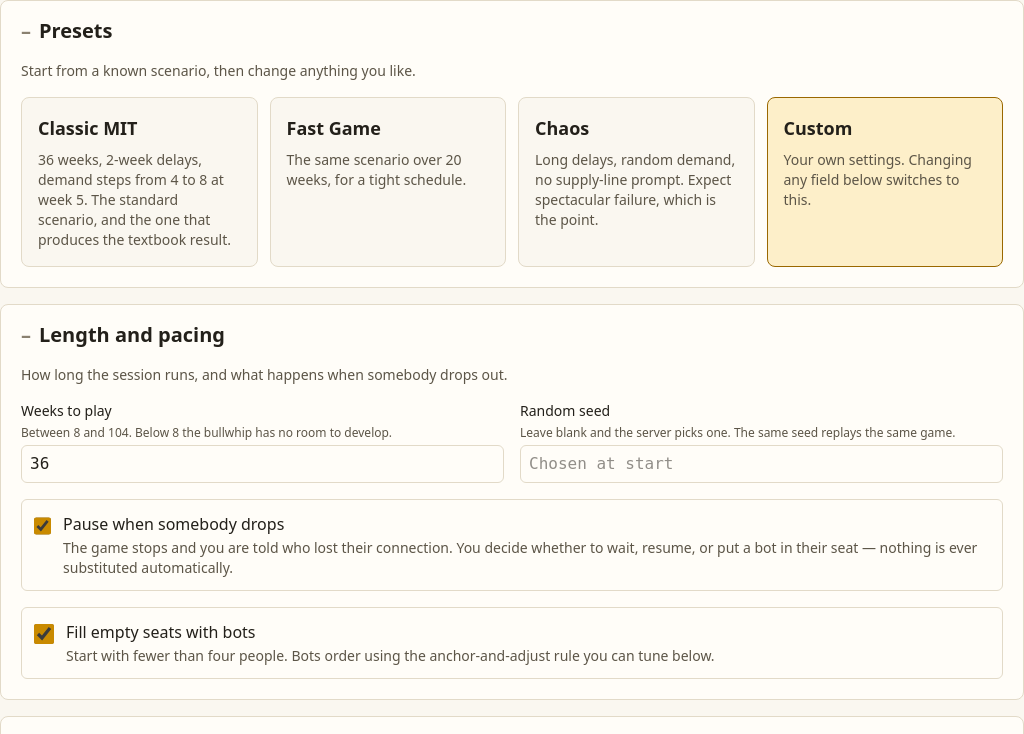
Test: server rejection (§3.2) › renders a real FastAPI 422 as a string and highlights the field [AC 13, FM 8]
Step 1. Replace the text in the number field labelled "Weeks to play" with "2" → (262, 464), box x1=21 y1=445 x2=504 y2=483
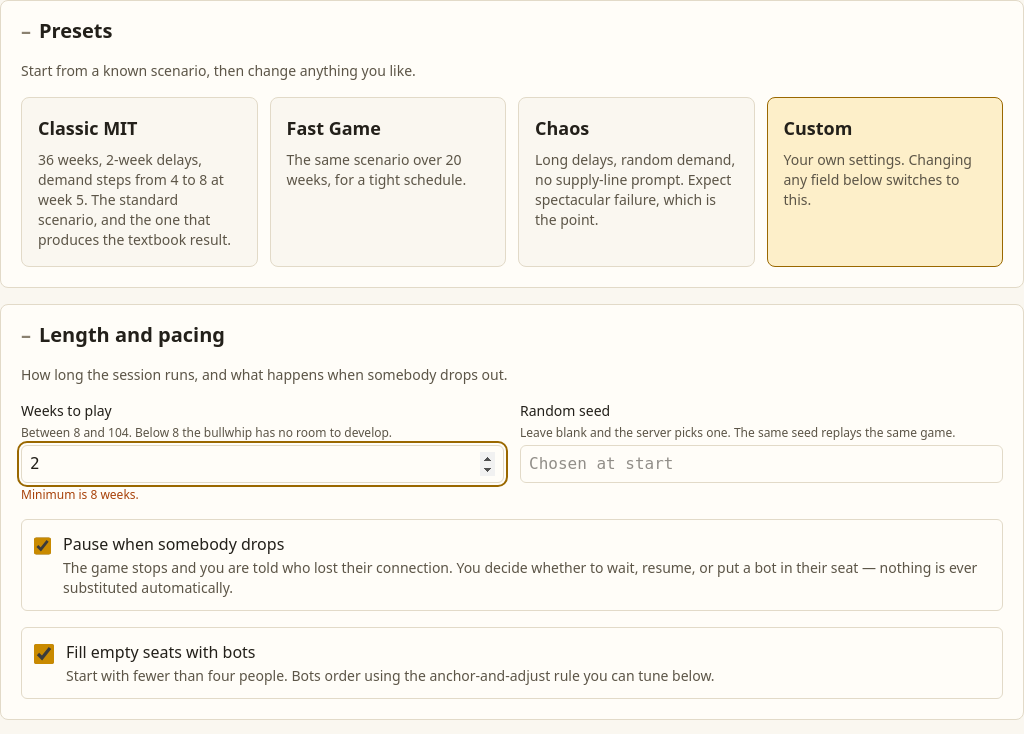
Step 2. Press Tab
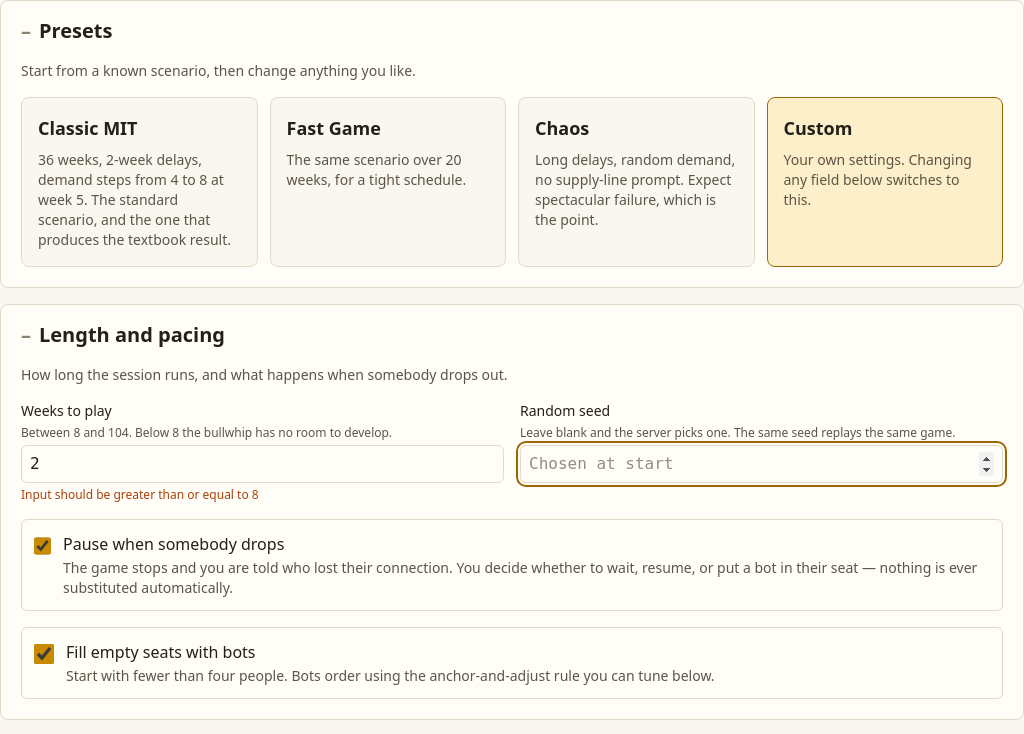
Check: the text "Input should be greater than or equal to 8" is shown, box x1=21 y1=486 x2=259 y2=503
